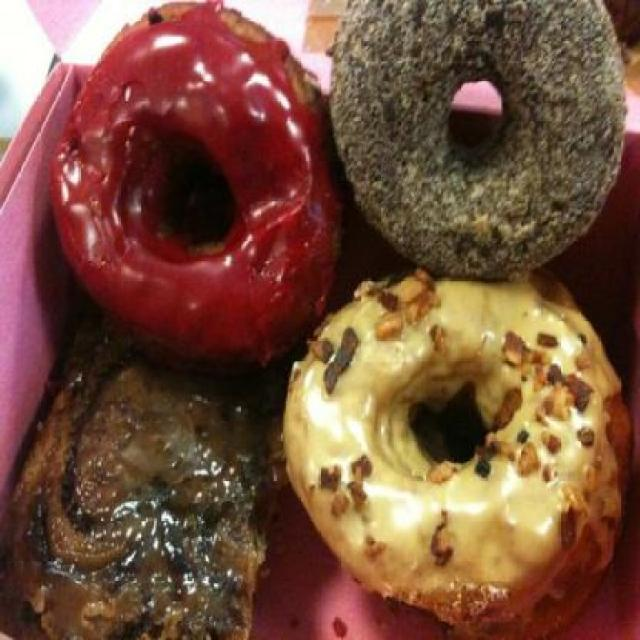Donuts: (6, 1, 639, 638)
